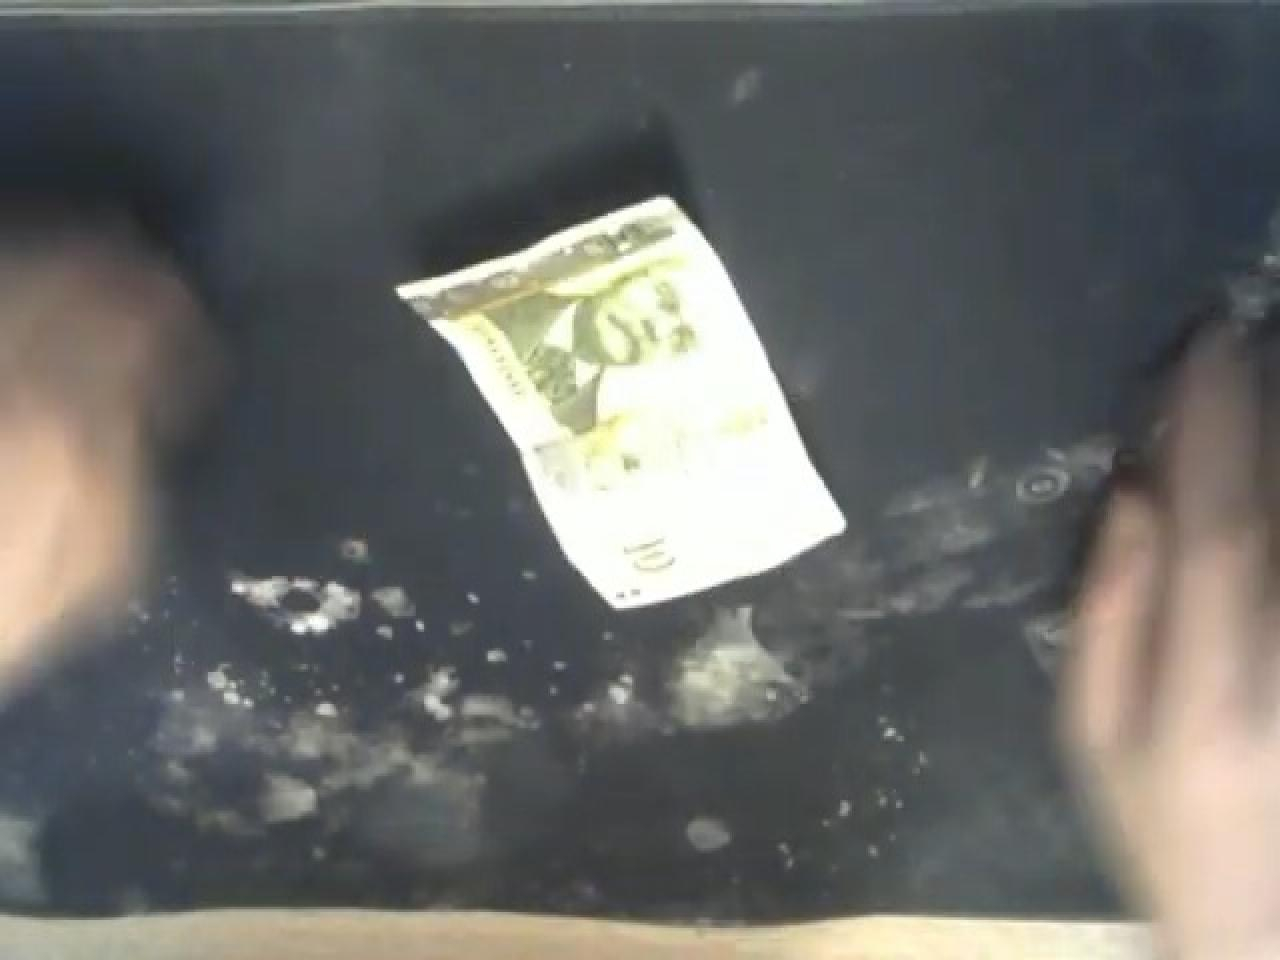10leva: (396, 189, 848, 608)
